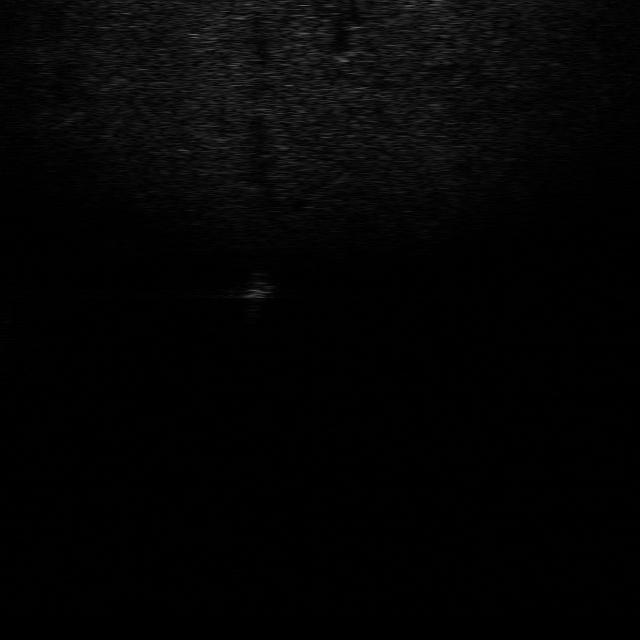human body: (238, 268, 272, 322)
